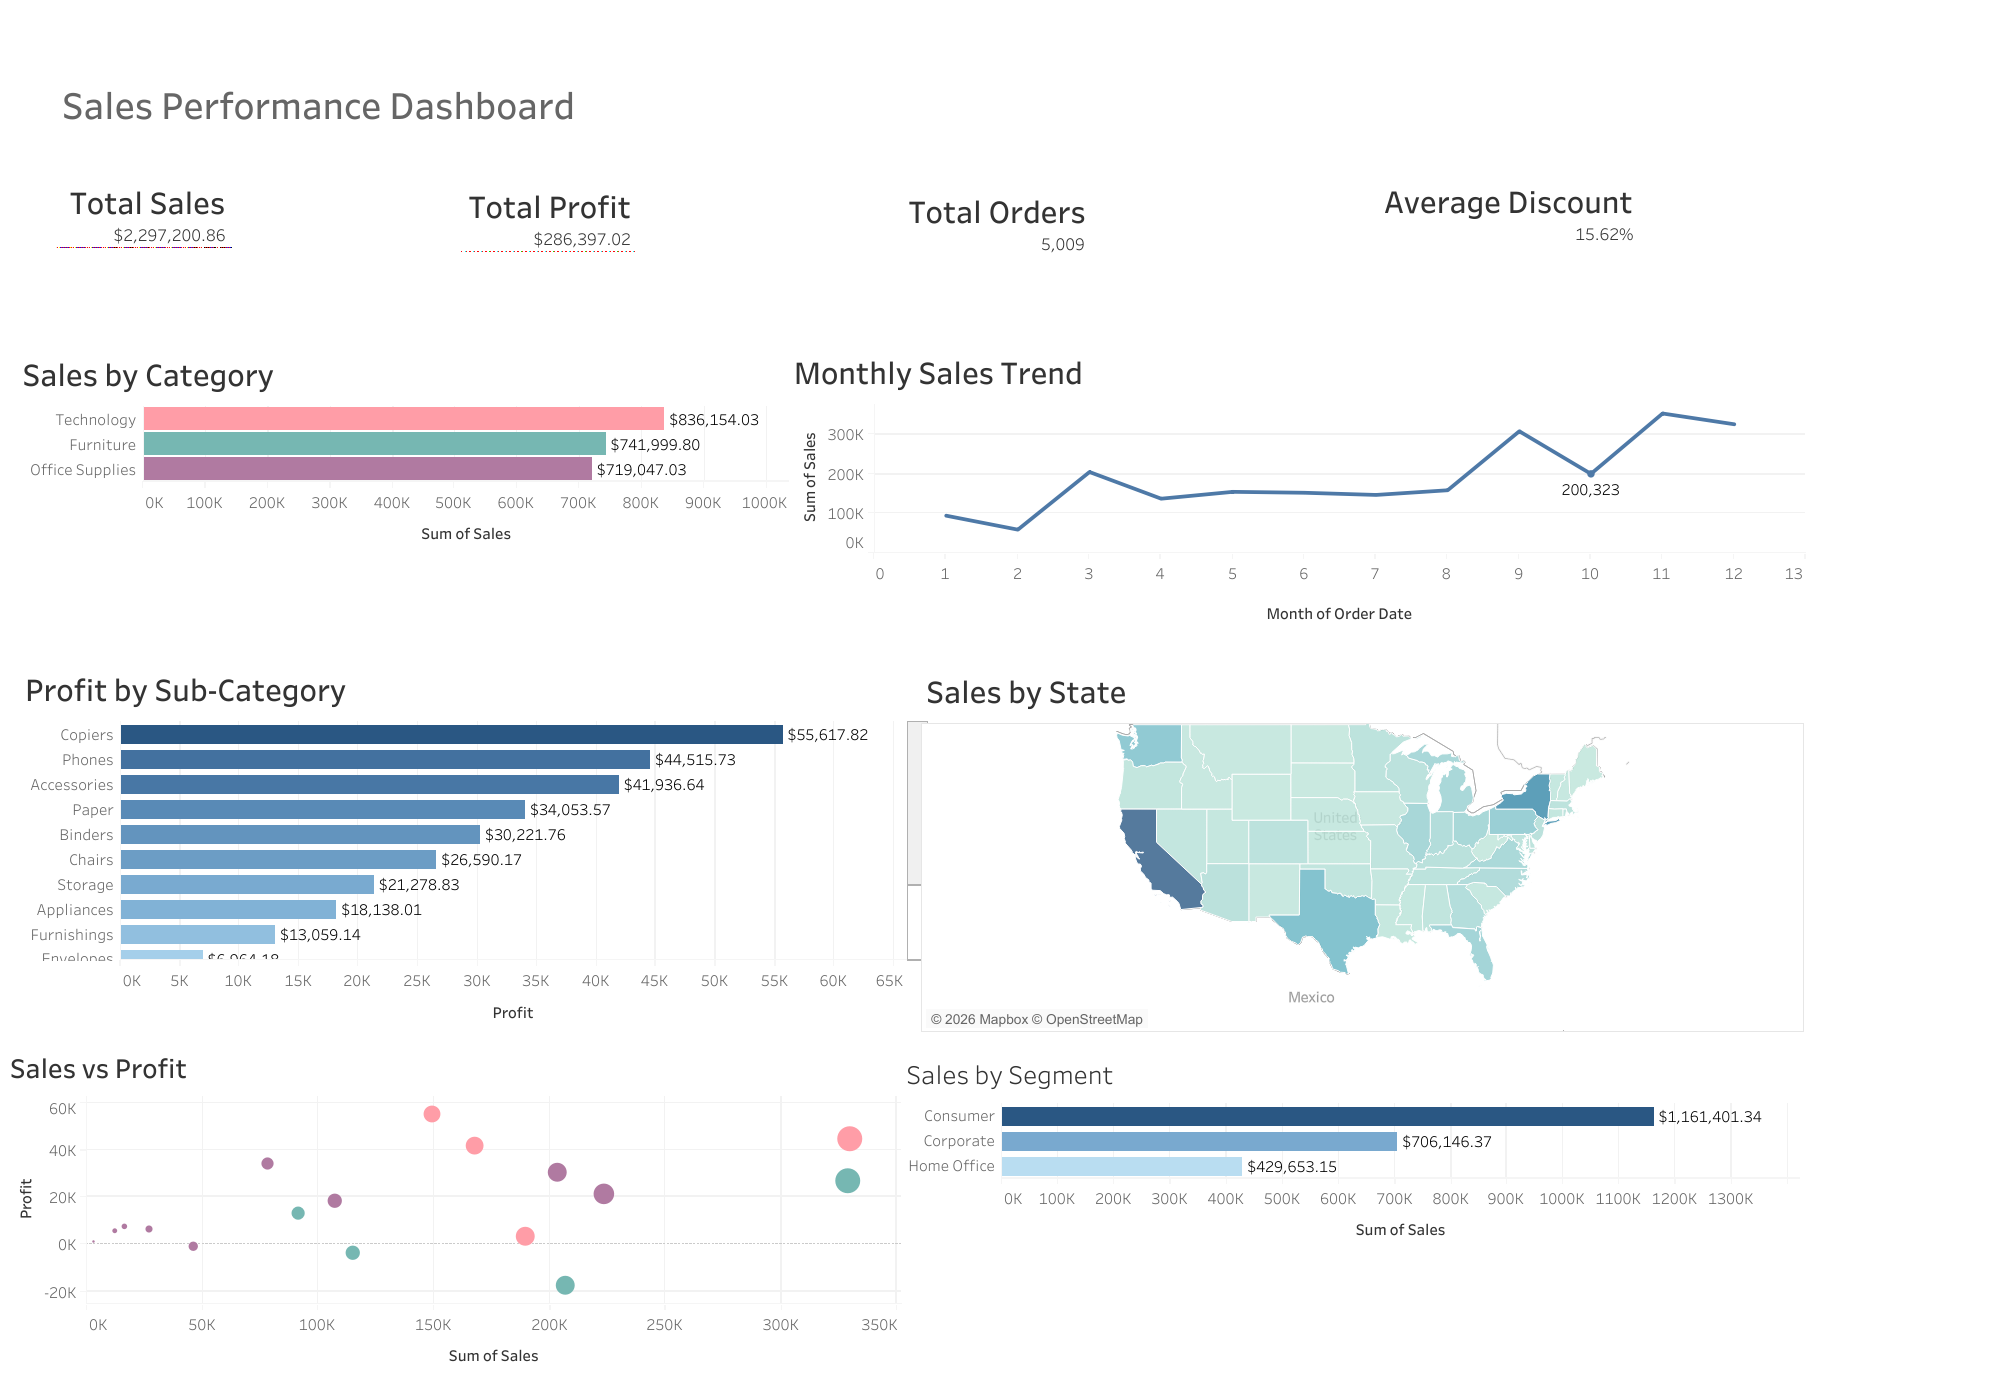

What the dashboard file says about the page in this screenshot:
{"tool":"tableau","page":{"name":"Dashboard 1","canvas":[1598,1100],"ordinal":0},"visuals":[{"type":"text","box":[47.3,6.9,532.3,151.1]},{"type":"worksheet","title":"KPI - Average Discount","mark":"Automatic","box":[1090.7,142.8,503.4,230.7]},{"type":"worksheet","title":"KPI - Total Sales","mark":"Automatic","box":[45.3,144.2,328.9,237.6]},{"type":"worksheet","title":"KPI - Total Profit","mark":"Automatic","box":[369.4,146.9,341.4,232.1]},{"type":"worksheet","title":"KPI - Total Orders","mark":"Automatic","box":[712.7,151.1,378,228]},{"type":"worksheet","title":"Monthly Sales Trend","mark":"Line","rows":["Sales"],"cols":["Order Date"],"box":[631,274,813,232]},{"type":"worksheet","title":"Sales by Category","mark":"Bar","rows":["Category"],"cols":["Sales"],"box":[14,276,618,228]},{"type":"worksheet","title":"Profit by Sub-Category","mark":"Bar","rows":["Sub-Category"],"cols":["Profit"],"box":[16,528,727,297]},{"type":"worksheet","title":"Sales by State","mark":"Multipolygon","box":[737,529,707,297]},{"type":"worksheet","title":"Sales vs Profit","mark":"Circle","rows":["Profit"],"cols":["Sales"],"box":[4,833,717,267]},{"type":"worksheet","title":"Sales by Segment","mark":"Bar","rows":["Segment"],"cols":["Sales"],"box":[721,839,719,258]}]}

Visuals, with their boxes in screenshot pixels (x1, y1, x2, y2), scaled from the page's 1598x1100 canvas onto the 1996x1374 screenshot:
text: left=59, top=9, right=724, bottom=197
"KPI - Average Discount" worksheet: left=1362, top=178, right=1991, bottom=467
"KPI - Total Sales" worksheet: left=57, top=180, right=467, bottom=477
"KPI - Total Profit" worksheet: left=461, top=183, right=888, bottom=473
"KPI - Total Orders" worksheet: left=890, top=189, right=1362, bottom=474
"Monthly Sales Trend" worksheet (Line marks): left=788, top=342, right=1804, bottom=632
"Sales by Category" worksheet (Bar marks): left=17, top=345, right=789, bottom=630
"Profit by Sub-Category" worksheet (Bar marks): left=20, top=660, right=928, bottom=1030
"Sales by State" worksheet (Multipolygon marks): left=921, top=661, right=1804, bottom=1032
"Sales vs Profit" worksheet (Circle marks): left=5, top=1040, right=901, bottom=1373
"Sales by Segment" worksheet (Bar marks): left=901, top=1048, right=1799, bottom=1370
